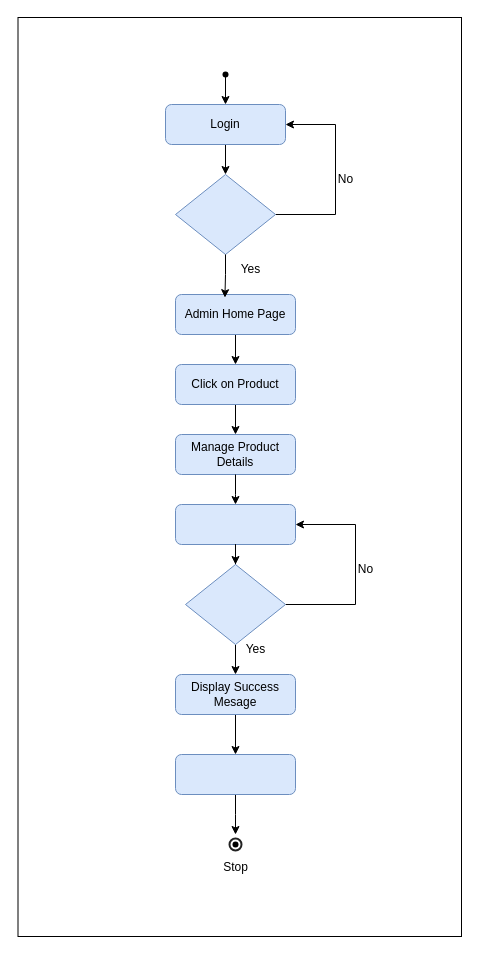
Some shapes in this 479 by 954 pixel diagram are drawn without their labels. The centre of each missing label's shape, as x and y in pixels:
Click on Save: point 235,524
Logout: point 235,774
Start: point 225,74
